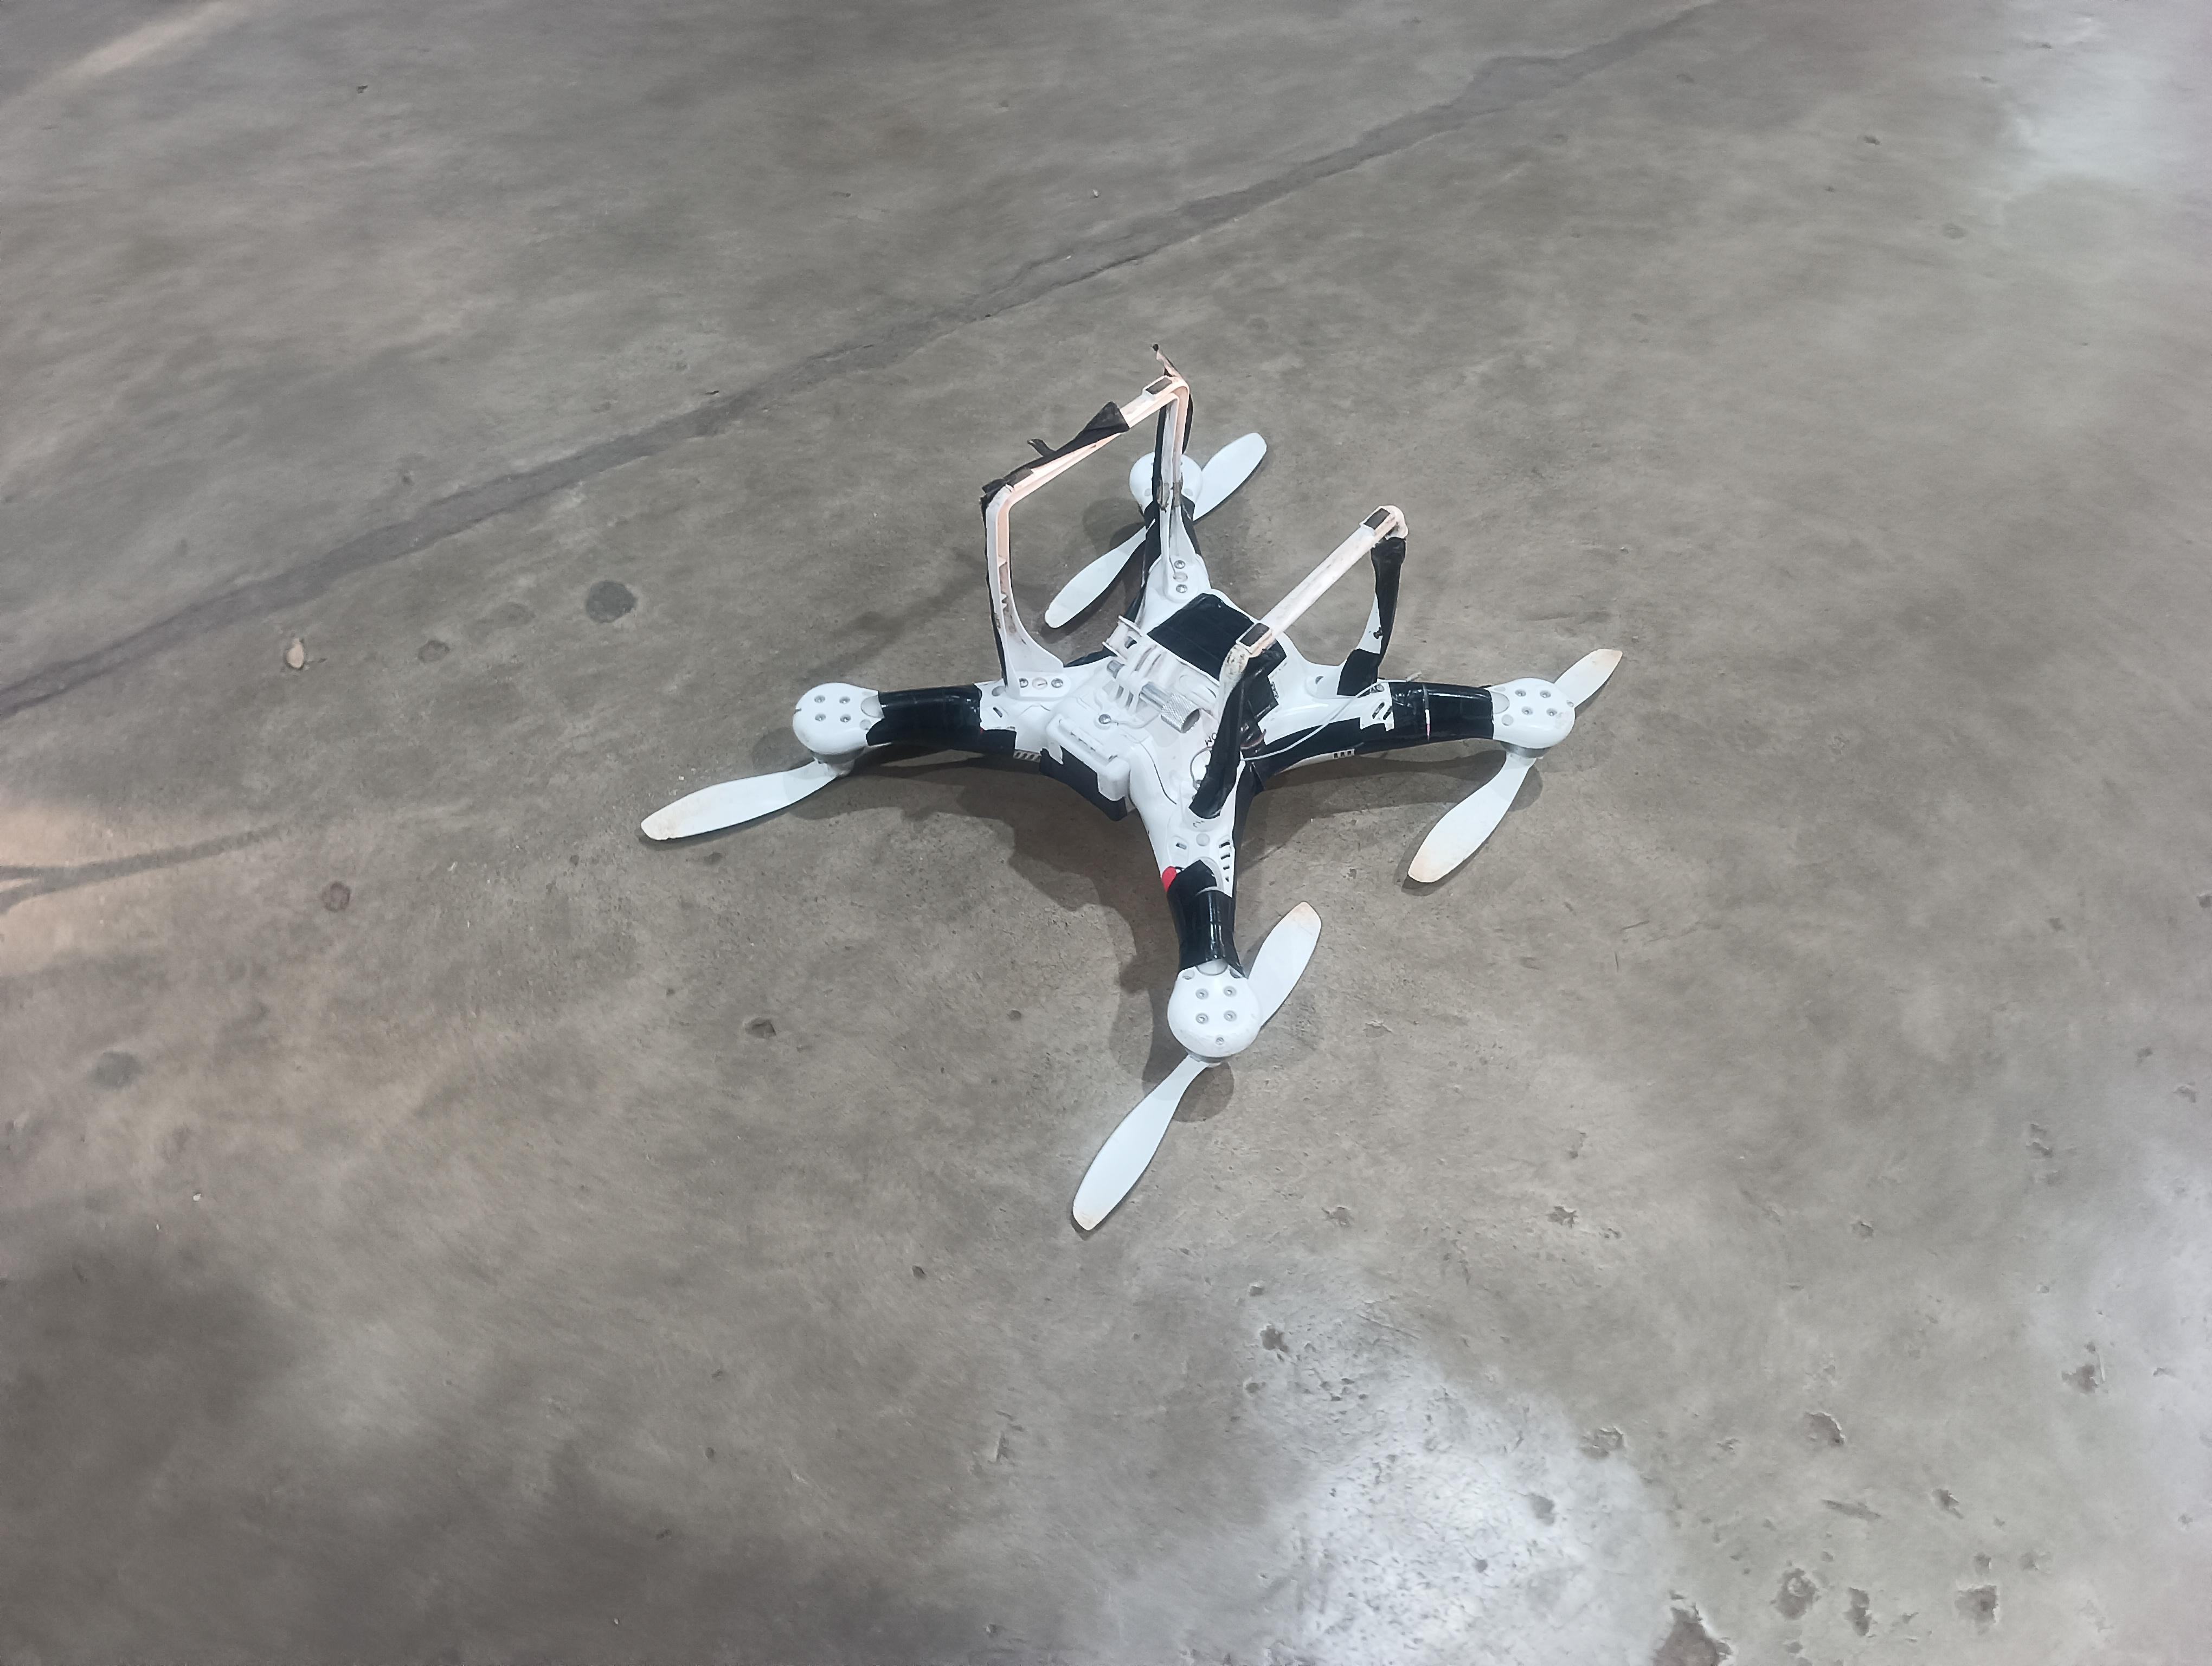drone: (598, 305, 1707, 1225)
